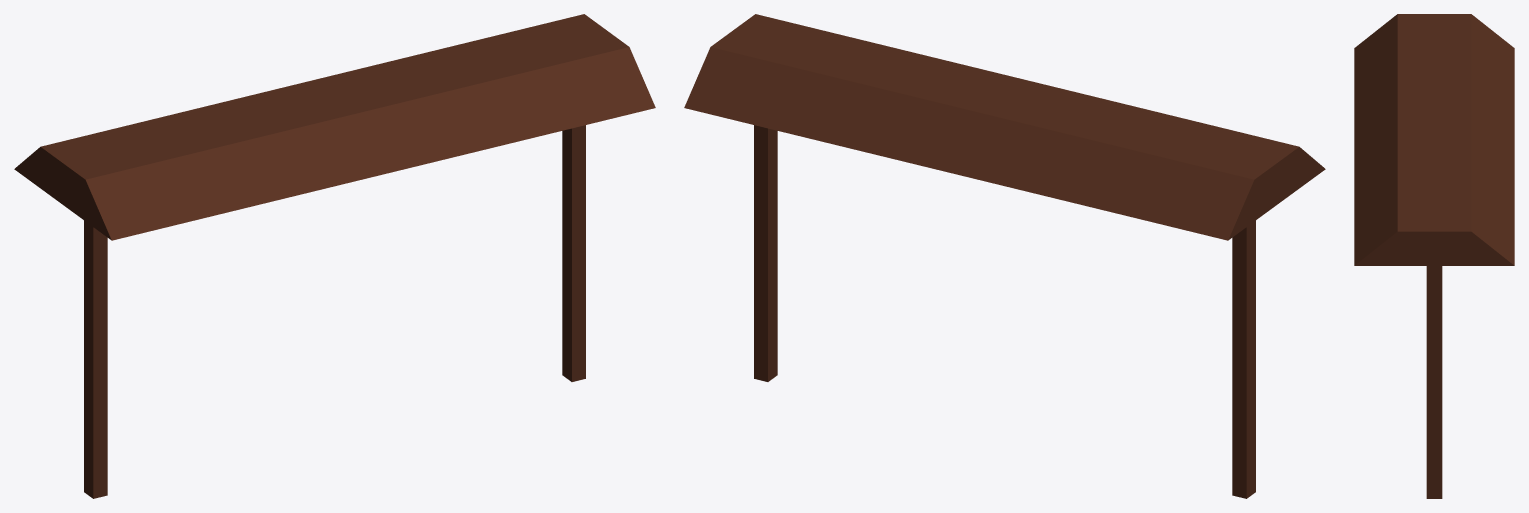
Rendered from Prop_Bus_Stop_col.fbx.
3 renders of one model, left to right at view 1: azimuth 30°, elevation 25°; view 2: azimuth 150°, elevation 25°; view 3: azimuth 270°, elevation 25°, orthographic. The views are drawn at different scales.
Visible parts, largest first — view 1: Prop_Bus_Stop_col; view 2: Prop_Bus_Stop_col; view 3: Prop_Bus_Stop_col.
Part boxes in pixels (x1,y1,x2,y2): Prop_Bus_Stop_col: (14,14,655,498); Prop_Bus_Stop_col: (684,14,1325,498); Prop_Bus_Stop_col: (1354,14,1514,498).
Size of the model in its own units: 546 by 325 by 170.
